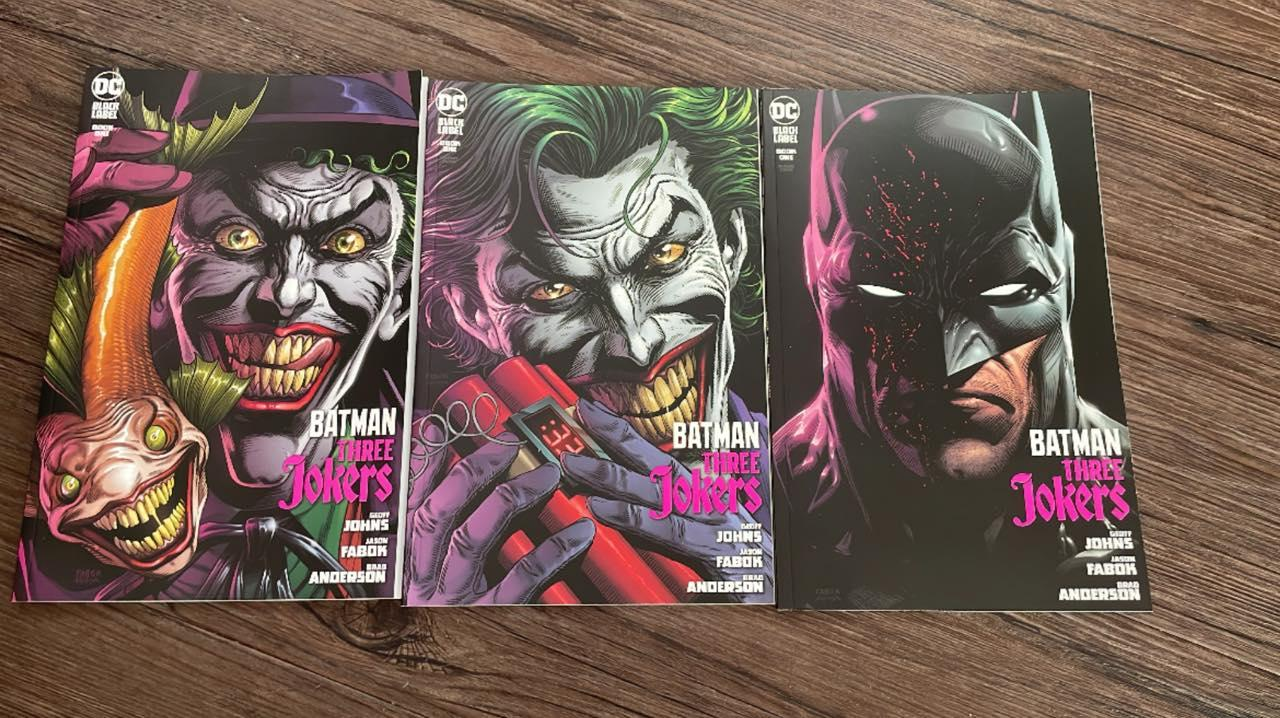comic: (14, 63, 421, 608), (760, 79, 1149, 621), (405, 82, 773, 604)
